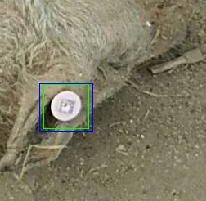text: (43, 84, 88, 128)
